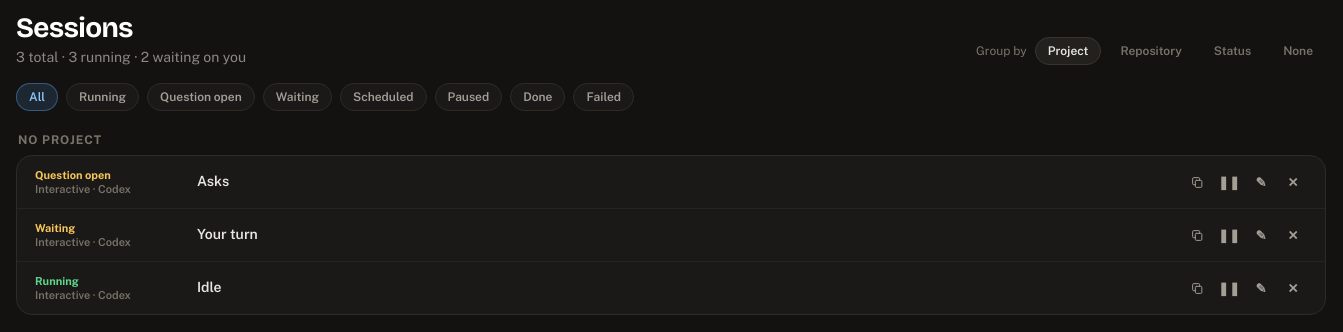
Test: open question dialog › filters and counts open questions on the sessions page
This screenshot has width=1343, height=332.
Click the button with class "filter" showing "Question open": click(201, 97) [147,83,255,111]
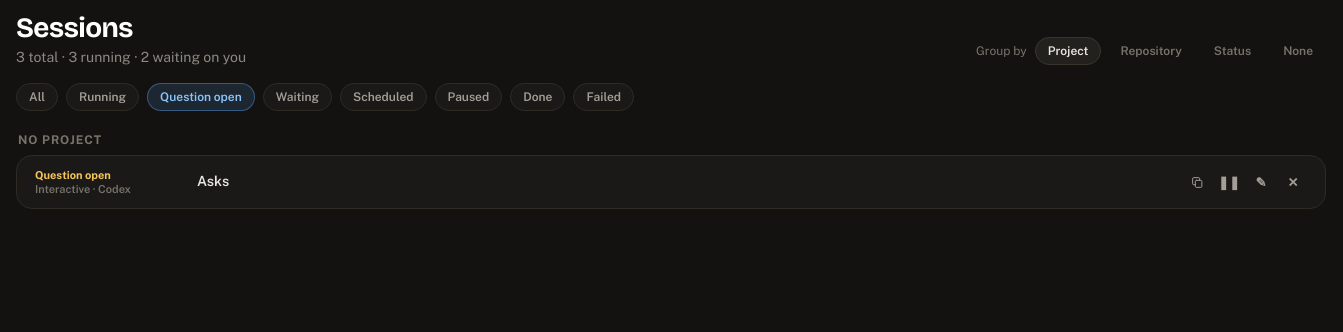
expect the elements with class "row-title" read "Asks", in this order: met, box [197,173,229,189]
